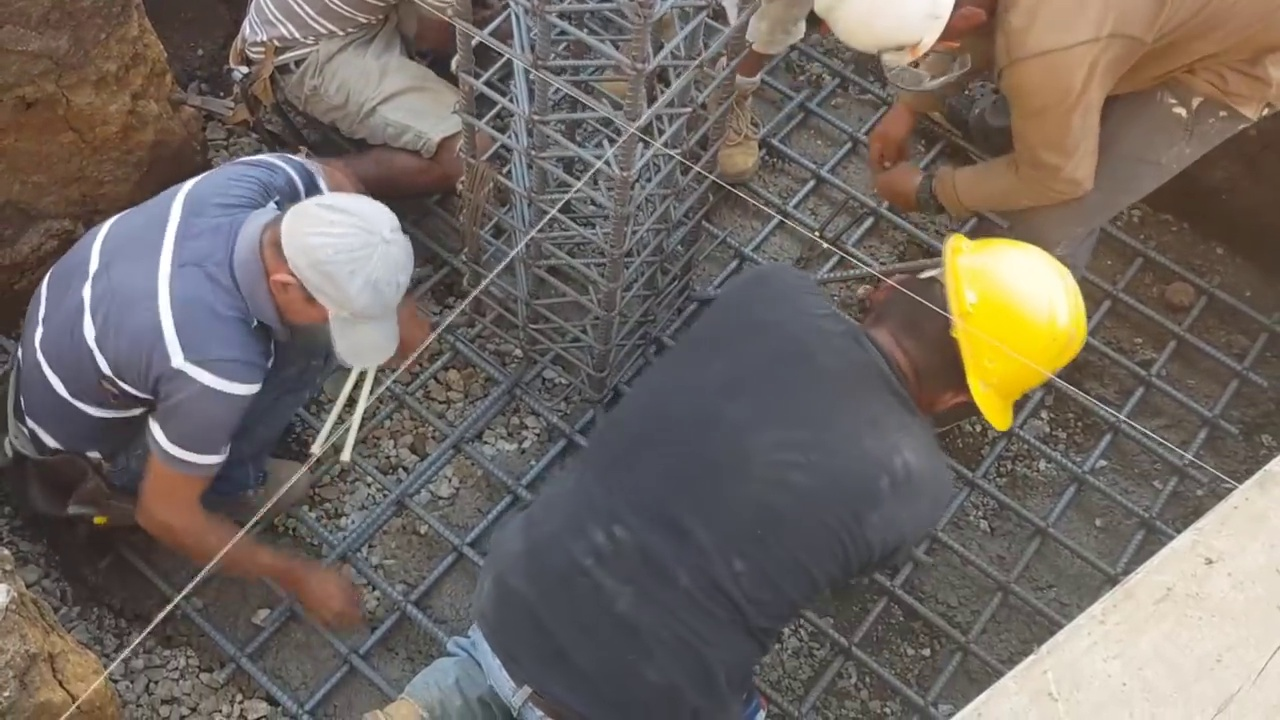helmet: (935, 234, 1088, 429), (817, 0, 955, 65)
helmet-off: (271, 202, 425, 359)
helmet-on: (864, 226, 1092, 431), (818, 7, 985, 102)
person: (373, 227, 1091, 720), (11, 142, 424, 620), (817, 0, 1279, 242), (234, 2, 496, 200), (597, 0, 802, 178)
